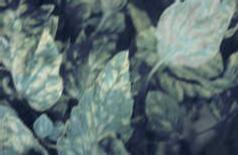Tomato mold leaf: (58, 47, 135, 154), (158, 0, 236, 69), (11, 35, 61, 109)
